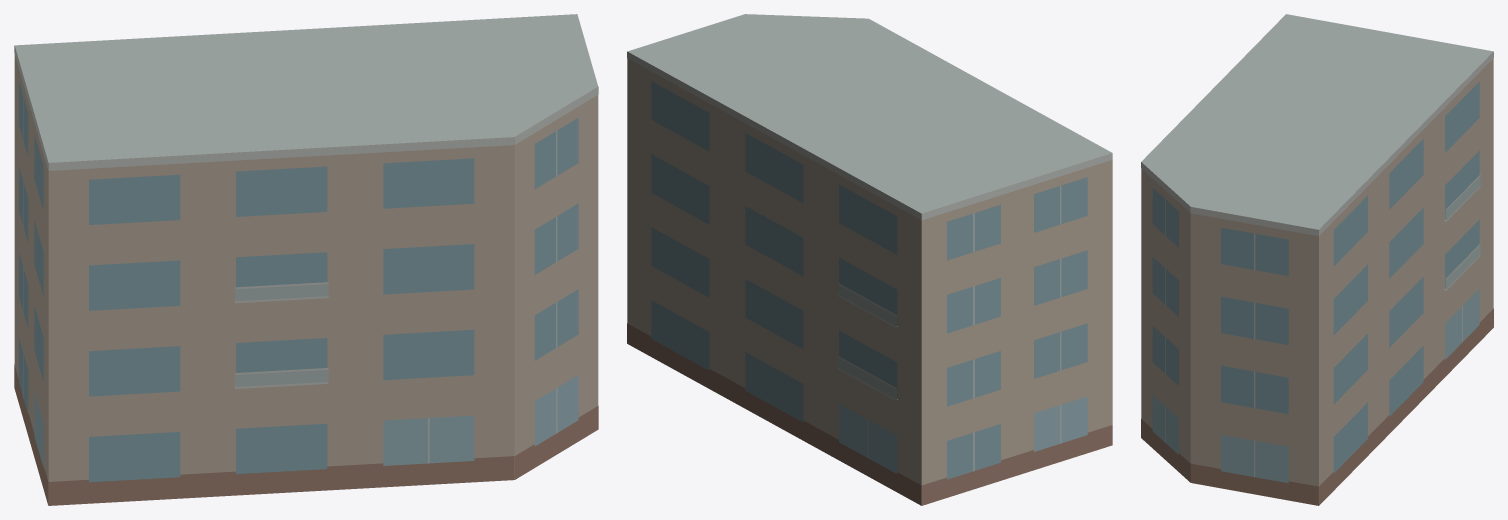
Rendered from survey-upis-32967251.glb.
3 views of the same model, side by side, from view 1: azimuth 30°, elevation 25°; view 2: azimuth 150°, elevation 25°; view 3: azimuth 270°, elevation 25° (orthographic). The views are drawn at different scales.
Visible parts, largest first — view 1: survey-upis-32967251.tmp; view 2: survey-upis-32967251.tmp; view 3: survey-upis-32967251.tmp.
Boxes of the visible parts, x1=… form: survey-upis-32967251.tmp: x1=14, y1=14, x2=598, y2=505; survey-upis-32967251.tmp: x1=627, y1=14, x2=1112, y2=505; survey-upis-32967251.tmp: x1=1141, y1=14, x2=1493, y2=505.
Bounding box in the file's own units: 17.61 × 10.5 × 12.16.
